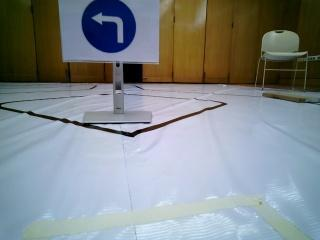left: (61, 0, 153, 54)
